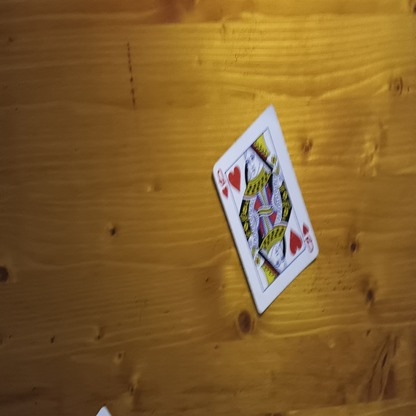Qh: (214, 166, 229, 199), (300, 222, 314, 255)
